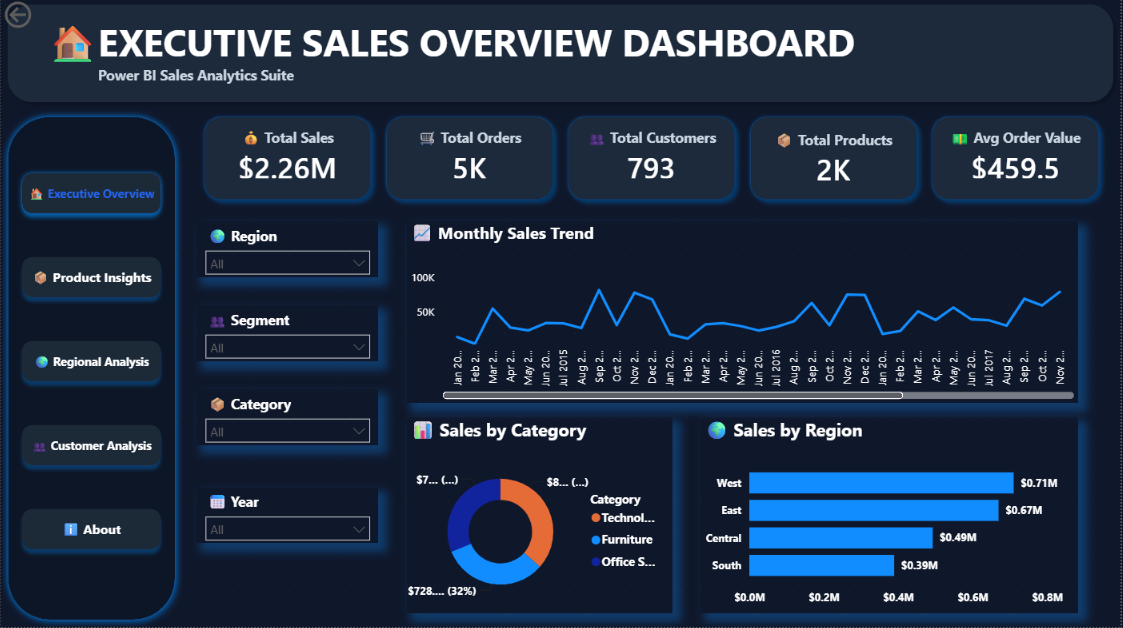

The page's visual inventory and layout, read from the dashboard file:
{"tool":"powerbi","page":{"name":"Executive Overview","canvas":[1280,720],"ordinal":0},"visuals":[{"type":"shape","box":[0,128,208,592],"z":0},{"type":"shape","box":[0,0,1280,128],"z":1000},{"type":"textbox","box":[48,16,1024,96],"z":2000},{"type":"actionButton","box":[16,192,170,42],"z":3000},{"type":"actionButton","box":[16,288,170,42],"z":4000},{"type":"actionButton","box":[16,384,170,42],"z":5000},{"type":"actionButton","box":[16,480,170,42],"z":6000},{"type":"actionButton","box":[16,576,170,42],"z":7000},{"type":"shape","box":[224,128,208,112],"z":8000},{"type":"cardVisual","fields":{"Data":["Sales_Data.Total Sales"]},"box":[240,160,176,64],"z":9000},{"type":"textbox","box":[240,144,176,32],"z":10000},{"type":"shape","box":[432,128,208,112],"z":11000},{"type":"cardVisual","fields":{"Data":["Sales_Data.Total Orders"]},"box":[448,160,176,64],"z":12000},{"type":"textbox","box":[448,144,176,32],"z":13000},{"type":"shape","box":[640,128,208,112],"z":14000},{"type":"cardVisual","fields":{"Data":["Sales_Data.Total Customers"]},"box":[656,160,176,64],"z":15000},{"type":"textbox","box":[656,144,176,32],"z":16000},{"type":"shape","box":[848,128,208,112],"z":17000},{"type":"cardVisual","fields":{"Data":["Sales_Data.Total Products"]},"box":[863.7,162.3,176,64],"z":18000},{"type":"textbox","box":[863.7,146.3,176,32],"z":19000},{"type":"shape","box":[1056,128,208,112],"z":20000},{"type":"cardVisual","fields":{"Data":["Sales_Data.Average Order Value"]},"box":[1072,160,176,64],"z":21000},{"type":"textbox","box":[1072,144,176,32],"z":22000},{"type":"slicer","fields":{"Values":["Sales_Data.Region"]},"box":[224,256,208,64],"z":23000},{"type":"slicer","fields":{"Values":["Sales_Data.Segment"]},"box":[224,352,208,64],"z":24000},{"type":"slicer","fields":{"Values":["Sales_Data.Category"]},"box":[224,448,208,64],"z":25000},{"type":"slicer","fields":{"Values":["Sales_Data.Year"]},"box":[224,560,208,64],"z":26000},{"type":"actionButton","box":[0,0,100,40],"z":27000},{"type":"lineChart","title":"📈 Monthly Sales Trend","fields":{"Category":["Sales_Data.Month Year"],"Y":["Sum(Sales_Data.Sales)"]},"box":[464,256,768,208],"z":28000},{"type":"donutChart","title":"📊 Sales by Category","fields":{"Category":["Sales_Data.Category"],"Y":["Sales_Data.Total Sales"]},"box":[464,480,304,224],"z":29000},{"type":"clusteredBarChart","title":"🌍 Sales by Region","fields":{"Category":["Sales_Data.Region"],"Y":["Sales_Data.Total Sales"]},"box":[800,480,432,224],"z":30000}]}

Visuals, with their boxes in screenshot pixels (x1, y1, x2, y2), scaled from the page's 1280x720 canvas onto the 1123x628 screenshot:
shape: <bbox>0, 112, 182, 627</bbox>
shape: <bbox>0, 0, 1122, 112</bbox>
textbox: <bbox>42, 14, 941, 98</bbox>
actionButton: <bbox>14, 167, 163, 204</bbox>
actionButton: <bbox>14, 251, 163, 288</bbox>
actionButton: <bbox>14, 335, 163, 372</bbox>
actionButton: <bbox>14, 419, 163, 455</bbox>
actionButton: <bbox>14, 502, 163, 539</bbox>
shape: <bbox>197, 112, 379, 209</bbox>
cardVisual - Sales_Data.Total Sales: <bbox>211, 140, 365, 195</bbox>
textbox: <bbox>211, 126, 365, 154</bbox>
shape: <bbox>379, 112, 562, 209</bbox>
cardVisual - Sales_Data.Total Orders: <bbox>393, 140, 547, 195</bbox>
textbox: <bbox>393, 126, 547, 154</bbox>
shape: <bbox>562, 112, 744, 209</bbox>
cardVisual - Sales_Data.Total Customers: <bbox>576, 140, 730, 195</bbox>
textbox: <bbox>576, 126, 730, 154</bbox>
shape: <bbox>744, 112, 926, 209</bbox>
cardVisual - Sales_Data.Total Products: <bbox>758, 142, 912, 197</bbox>
textbox: <bbox>758, 128, 912, 156</bbox>
shape: <bbox>926, 112, 1109, 209</bbox>
cardVisual - Sales_Data.Average Order Value: <bbox>941, 140, 1095, 195</bbox>
textbox: <bbox>941, 126, 1095, 154</bbox>
slicer - Sales_Data.Region: <bbox>197, 223, 379, 279</bbox>
slicer - Sales_Data.Segment: <bbox>197, 307, 379, 363</bbox>
slicer - Sales_Data.Category: <bbox>197, 391, 379, 447</bbox>
slicer - Sales_Data.Year: <bbox>197, 488, 379, 544</bbox>
actionButton: <bbox>0, 0, 88, 35</bbox>
"📈 Monthly Sales Trend" lineChart: <bbox>407, 223, 1081, 405</bbox>
"📊 Sales by Category" donutChart: <bbox>407, 419, 674, 614</bbox>
"🌍 Sales by Region" clusteredBarChart: <bbox>702, 419, 1081, 614</bbox>
